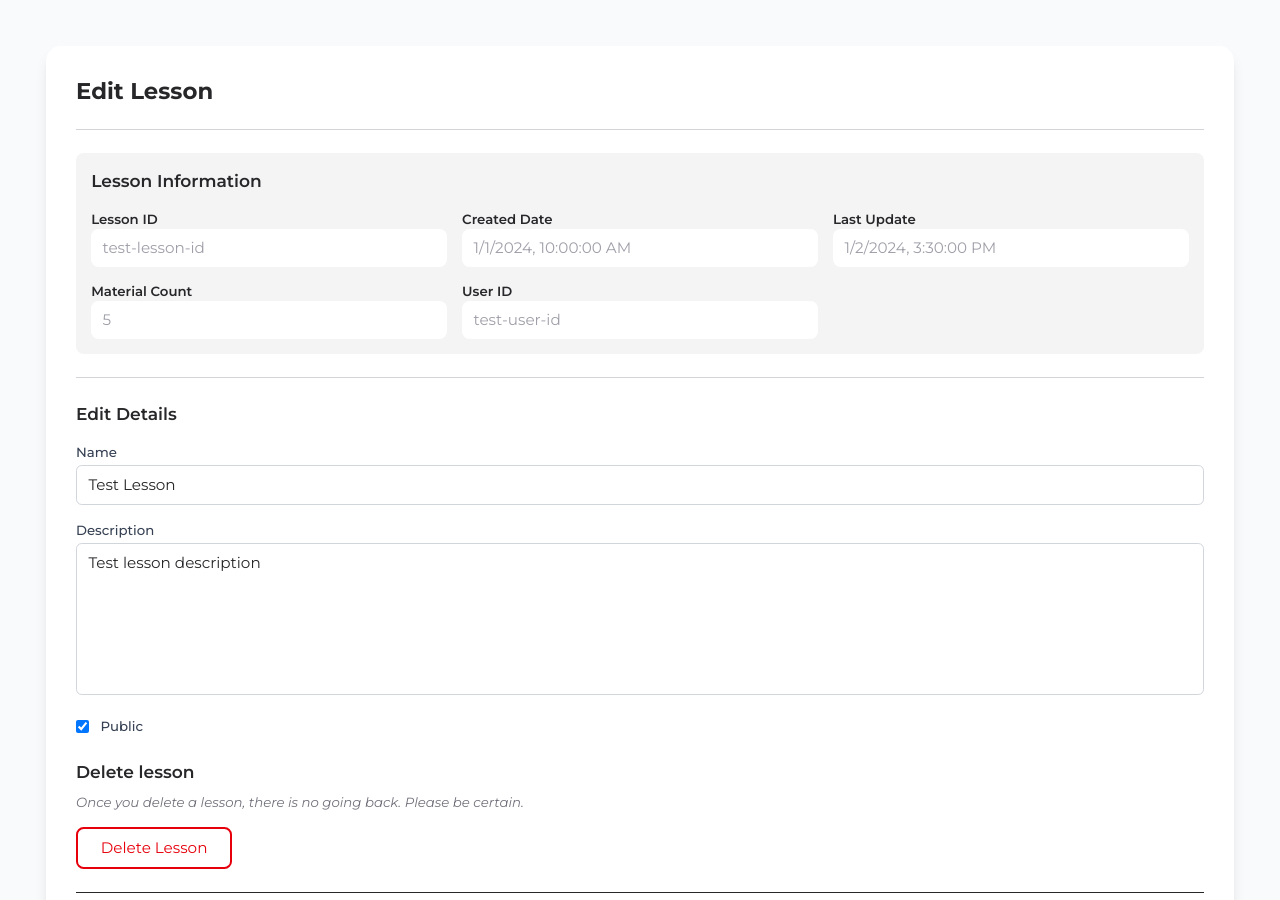
Test: LessonEditPage Component › Delete Functionality › should open delete confirmation dialog
Click the button "Delete Lesson": {"x": 154, "y": 848} [76,827,232,869]
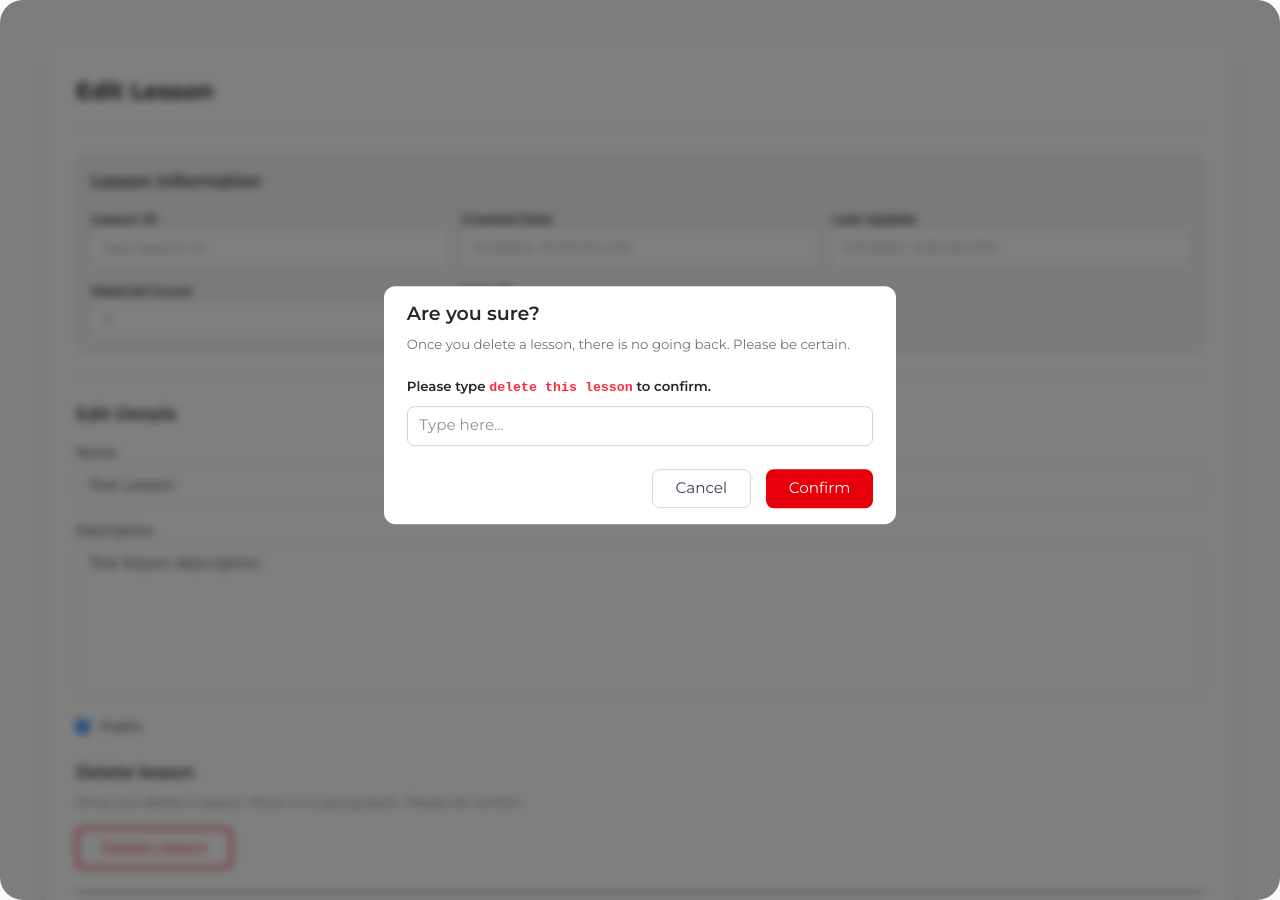
Now the heading "Are you sure?" is shown, box [407,302,540,325]
Now the text "delete this lesson" is shown, box [489,380,633,395]
